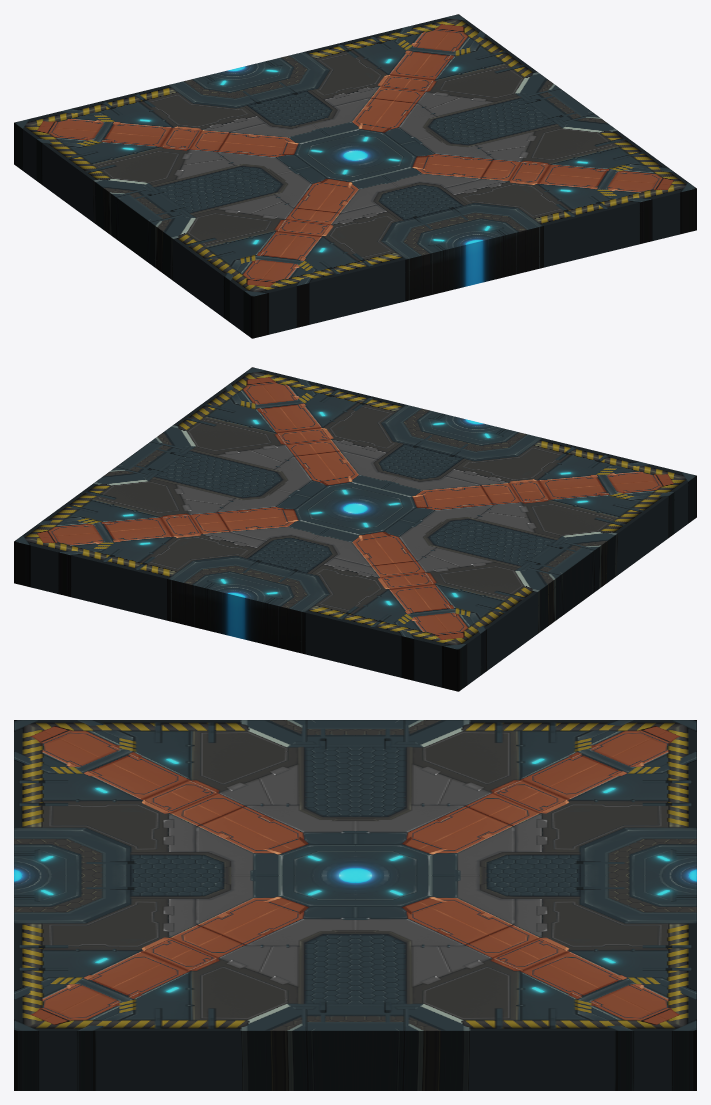
File: test map.FBX
3 views of the same model, one above another, from view 1: azimuth 30°, elevation 25°; view 2: azimuth 150°, elevation 25°; view 3: azimuth 270°, elevation 25° (orthographic). The views are drawn at different scales.
Visible parts, largest first — view 1: Plane009; view 2: Plane009; view 3: Plane009.
Boxes of the visible parts, left/top/right/bottom form: Plane009: left=14, top=14, right=696, bottom=338; Plane009: left=14, top=367, right=696, bottom=691; Plane009: left=14, top=720, right=696, bottom=1090.
Bounding box in the file's own units: 4749 × 4407 × 426.
